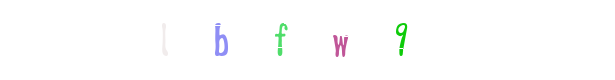9: (361, 0, 441, 80)
B: (267, 0, 347, 80)
F: (268, 0, 348, 80)
L: (180, 0, 260, 80)
W: (300, 0, 380, 80)
